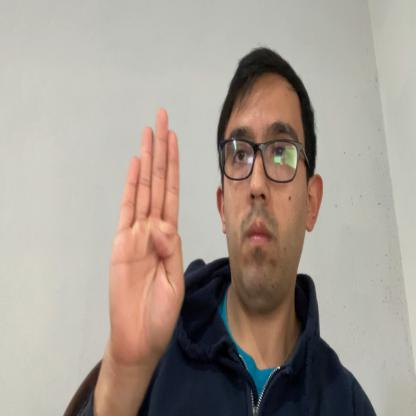B: (111, 108, 185, 357)
